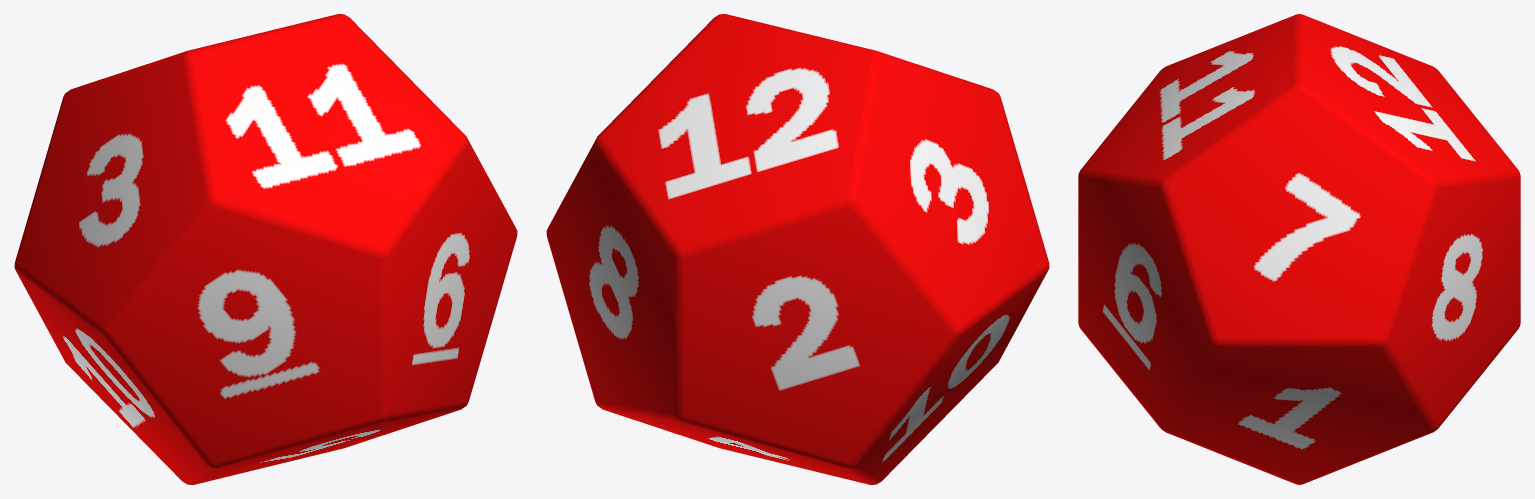
3 renders of one model, left to right at view 1: azimuth 30°, elevation 25°; view 2: azimuth 150°, elevation 25°; view 3: azimuth 270°, elevation 25°, orthographic. The views are drawn at different scales.
Visible parts, largest first — view 1: 12Red_12Red_0; view 2: 12Red_12Red_0; view 3: 12Red_12Red_0.
Part boxes in pixels (box(x1,y1,x2,y2)): 12Red_12Red_0: box(14, 14, 517, 484); 12Red_12Red_0: box(546, 14, 1049, 484); 12Red_12Red_0: box(1078, 14, 1520, 484).
Size of the model in its own units: 1.85 by 1.85 by 1.85.
Materials: 1 (1 with a texture image).
